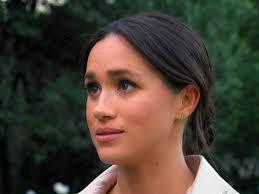noMask: (76, 12, 208, 164)
